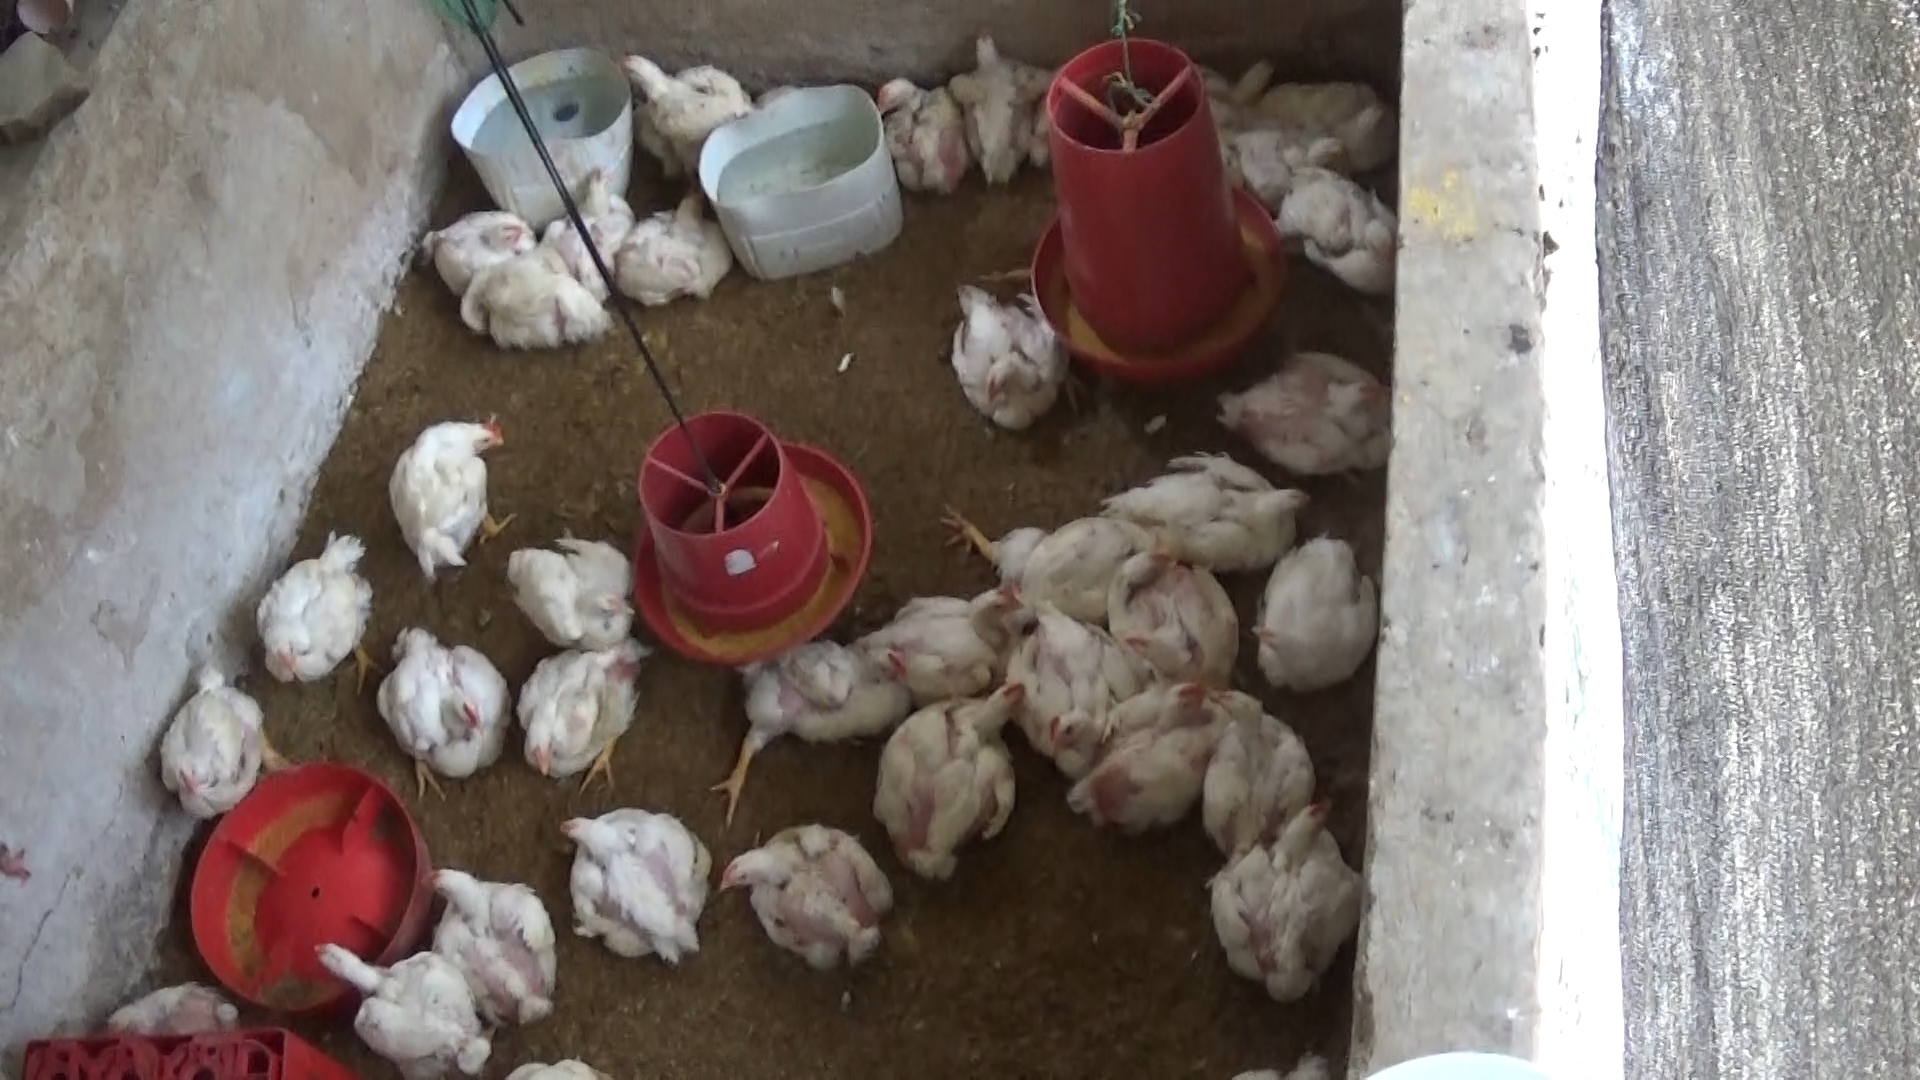Pollos: (880, 674, 1029, 927), (709, 613, 909, 798), (1197, 787, 1364, 1004), (715, 820, 893, 984), (555, 794, 708, 976), (357, 613, 502, 803), (1110, 440, 1305, 574), (415, 855, 564, 1029), (1079, 533, 1245, 688), (1212, 332, 1396, 472), (243, 526, 382, 709), (1004, 592, 1147, 767), (952, 491, 1168, 605), (1043, 683, 1224, 818), (1197, 684, 1332, 864), (311, 928, 485, 1065), (148, 665, 293, 828), (388, 409, 517, 589), (1241, 524, 1377, 687), (1269, 153, 1404, 305), (861, 568, 1036, 683), (502, 655, 647, 794), (485, 531, 632, 669), (446, 251, 612, 363), (862, 65, 978, 214), (940, 284, 1060, 427), (625, 37, 752, 171), (934, 24, 1042, 179), (600, 189, 741, 305), (1265, 73, 1386, 164), (425, 200, 542, 289), (517, 169, 628, 258)
